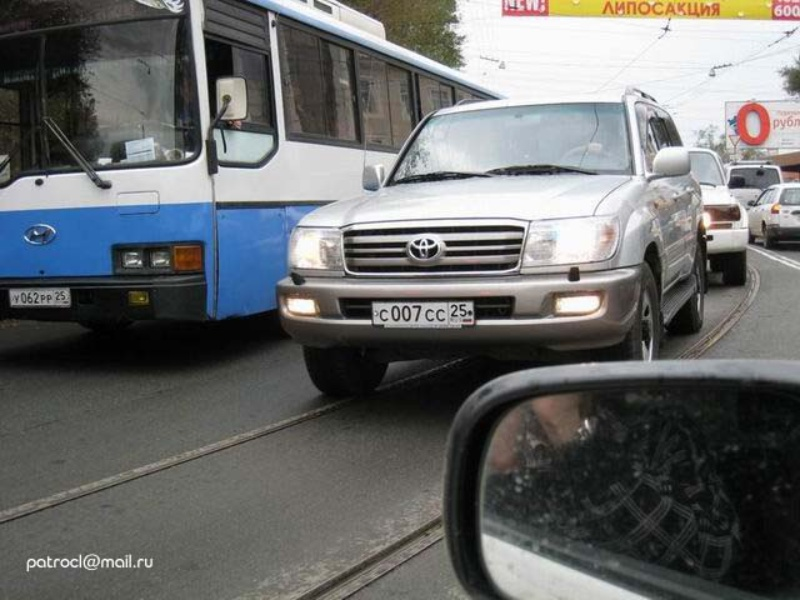car: (1, 1, 507, 323), (277, 94, 707, 394), (746, 184, 800, 249)
plate: (373, 302, 474, 323), (8, 288, 69, 306)
